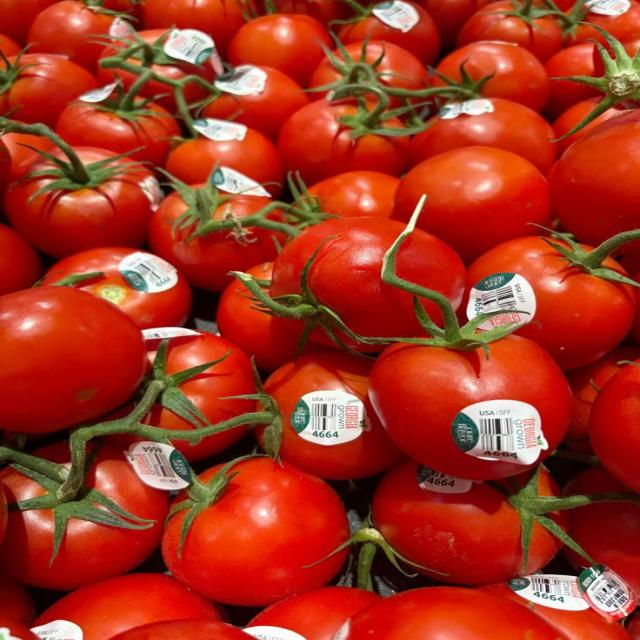tomato: (370, 336, 572, 480), (162, 458, 349, 606), (0, 445, 169, 590), (372, 460, 562, 585), (467, 236, 635, 369), (0, 286, 146, 433), (270, 218, 424, 337), (394, 147, 551, 262), (264, 350, 402, 480), (5, 147, 161, 259), (149, 192, 286, 291), (35, 573, 220, 639), (550, 110, 639, 245), (46, 247, 192, 329), (340, 587, 567, 639), (410, 98, 556, 173), (278, 100, 409, 183), (56, 101, 180, 168), (480, 583, 628, 639), (167, 128, 284, 197), (167, 332, 254, 424), (202, 66, 309, 140), (216, 280, 302, 372), (436, 42, 549, 111), (228, 14, 333, 88), (565, 347, 639, 452), (0, 53, 98, 127), (246, 587, 380, 639), (588, 360, 639, 491), (339, 0, 439, 65), (99, 25, 215, 81), (568, 502, 639, 593), (458, 0, 562, 61), (28, 0, 113, 73), (142, 0, 252, 56), (332, 39, 428, 91), (308, 171, 399, 217), (545, 43, 600, 118), (418, 0, 490, 52), (0, 133, 55, 198), (554, 106, 622, 155), (0, 224, 42, 295), (572, 0, 639, 44), (111, 620, 250, 639), (0, 0, 56, 43), (273, 0, 352, 24), (0, 573, 35, 626), (0, 616, 39, 639), (103, 0, 141, 23), (0, 138, 12, 197), (0, 33, 20, 57), (630, 291, 639, 344), (0, 485, 7, 542)
